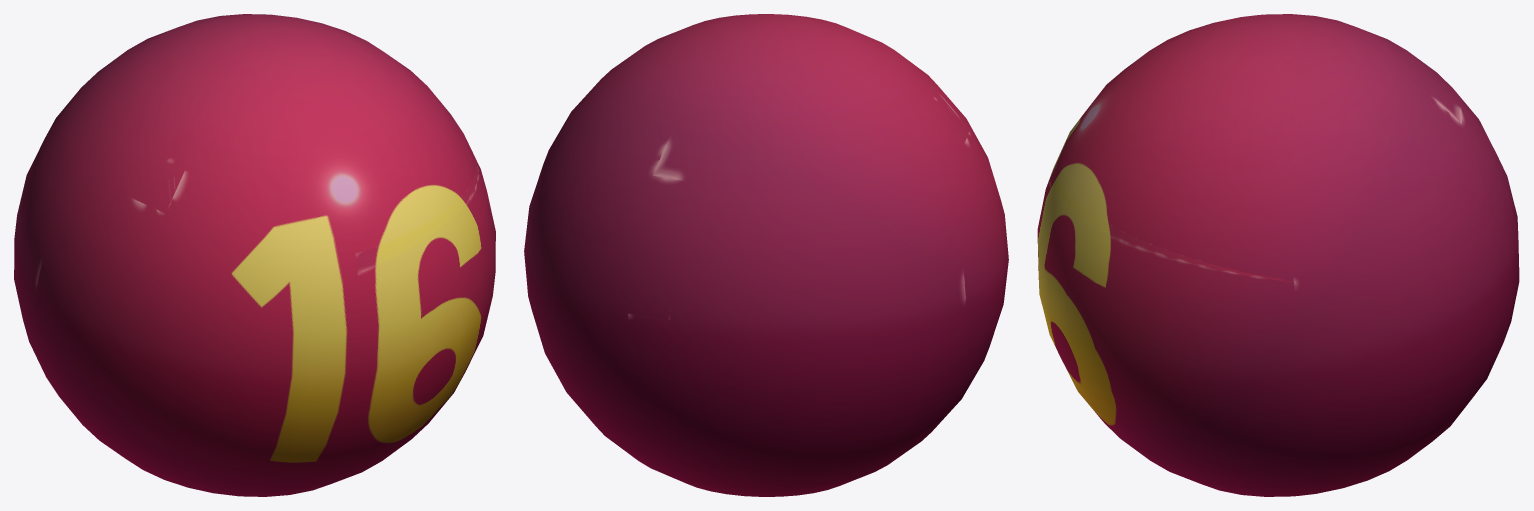
File: Enemy 16.fbx
3 views of the same model, side by side, from view 1: azimuth 30°, elevation 25°; view 2: azimuth 150°, elevation 25°; view 3: azimuth 270°, elevation 25° (orthographic).
Visible parts, largest first — view 1: Body 1.015; view 2: Body 1.015; view 3: Body 1.015.
Part boxes in pixels (left/top/right/bottom): Body 1.015: left=14, top=14, right=495, bottom=496; Body 1.015: left=524, top=14, right=1008, bottom=496; Body 1.015: left=1037, top=14, right=1519, bottom=496.
Bounding box in the file's own units: 472 × 474 × 472.
1 material, 1 textured.
